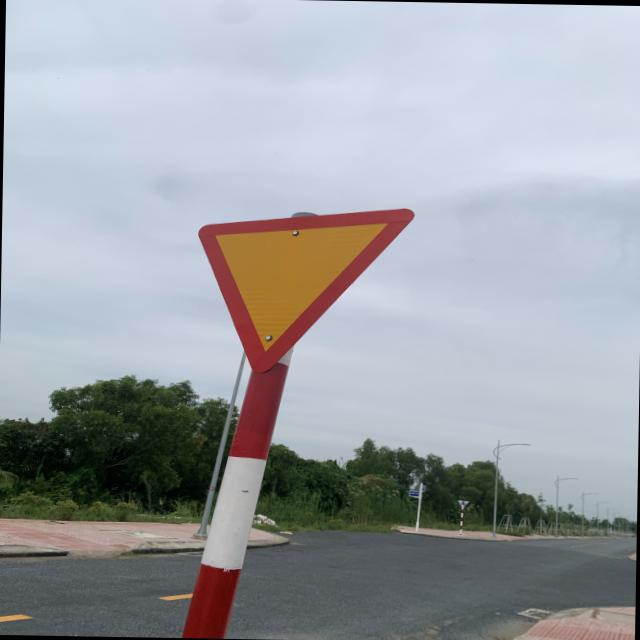Gioi_Han_Toc_Do_25: (193, 202, 419, 376)
